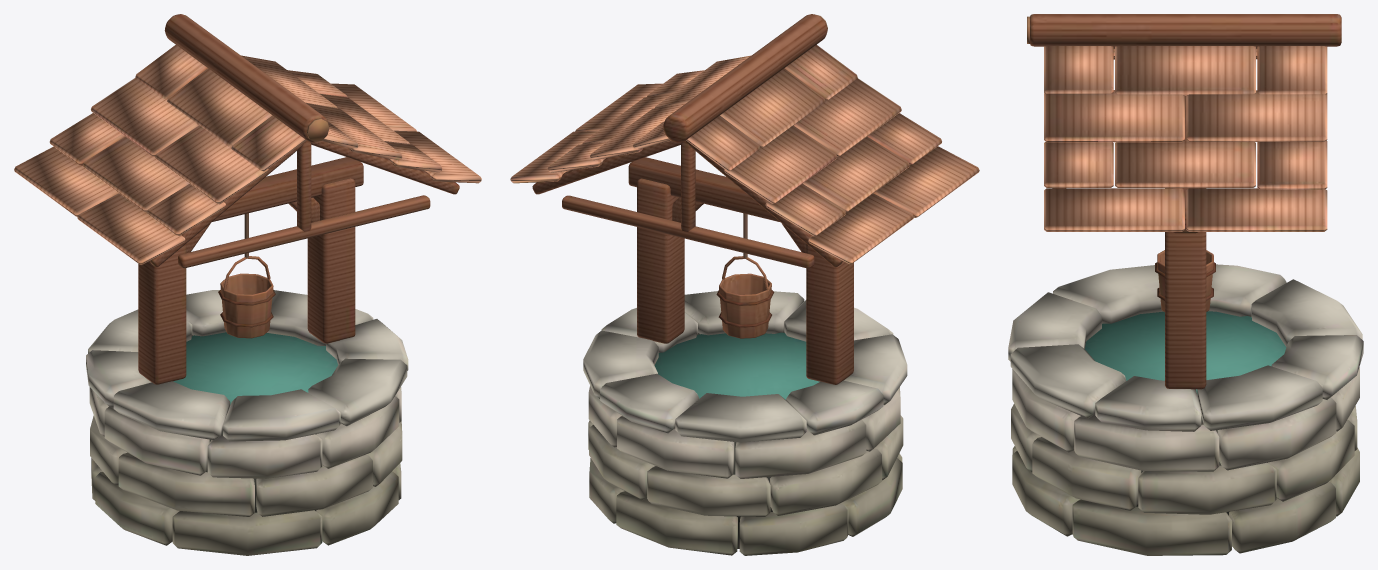
File: well_2_mid.glb
3 renders of one model, left to right at view 1: azimuth 30°, elevation 25°; view 2: azimuth 150°, elevation 25°; view 3: azimuth 270°, elevation 25°, orthographic. The views are drawn at different scales.
Parts seen in each view (by area): view 1: well_2; view 2: well_2; view 3: well_2.
Boxes of the visible parts, x1=… form: well_2: x1=14, y1=14, x2=481, y2=555; well_2: x1=510, y1=14, x2=979, y2=555; well_2: x1=1008, y1=14, x2=1363, y2=555.
Bounding box in the file's own units: 1.91 × 2.26 × 1.55.
1 material, 1 textured.
